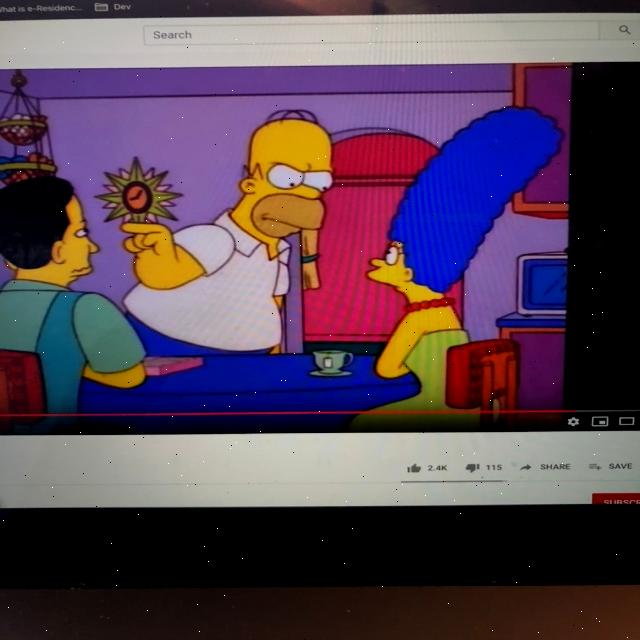Homer Simpson: (228, 106, 338, 250)
Marge Simpson: (361, 102, 570, 316)
